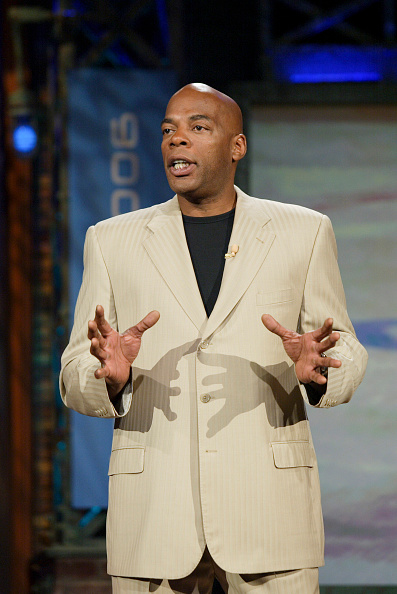em pe: (61, 69, 353, 576)
